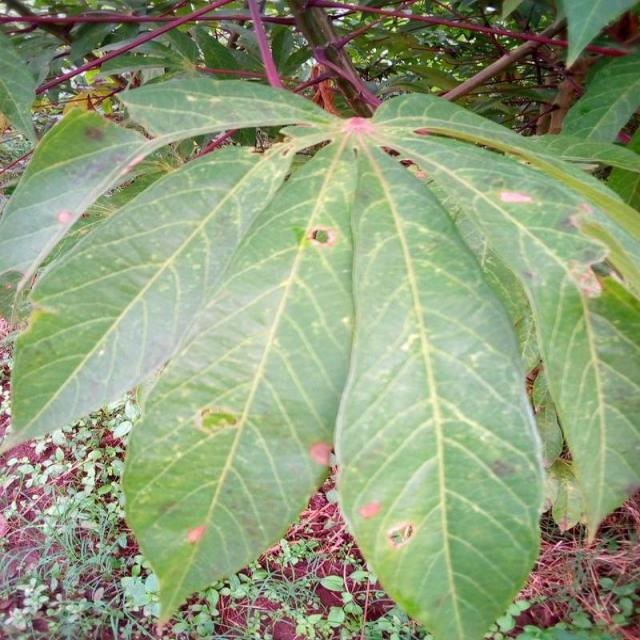cassava leaf: (2, 76, 638, 637), (120, 133, 357, 626), (331, 129, 547, 638), (0, 140, 297, 455)
